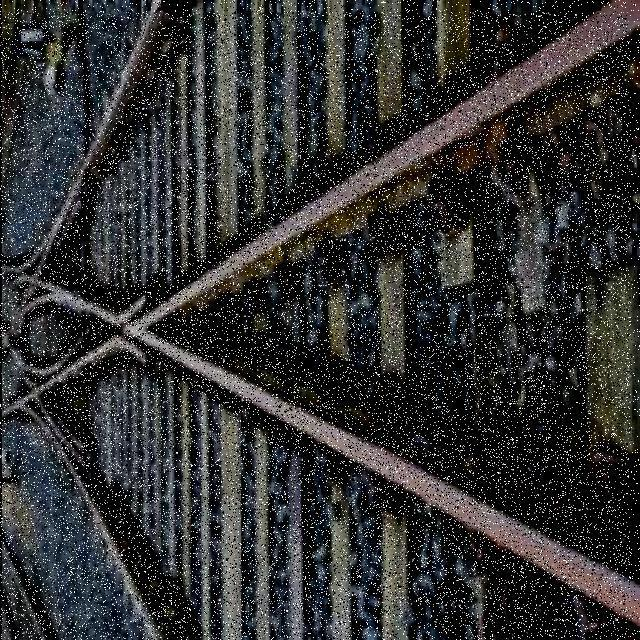rail: (0, 13, 630, 640)
